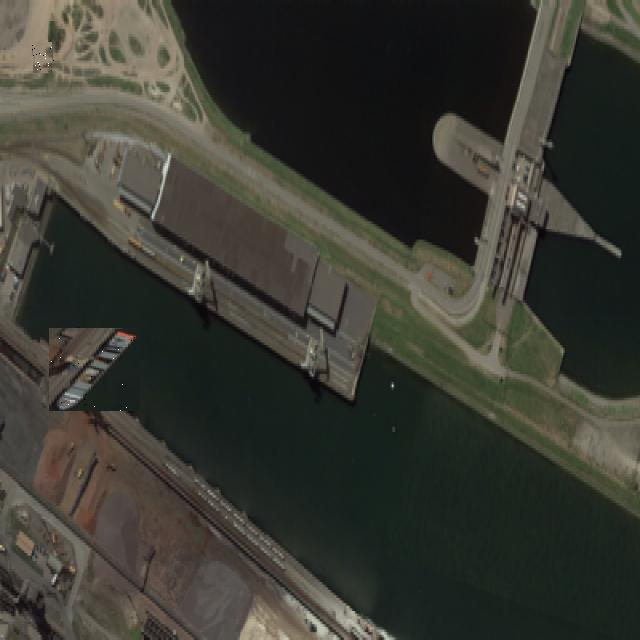boat: (51, 326, 138, 414), (30, 45, 55, 71)
